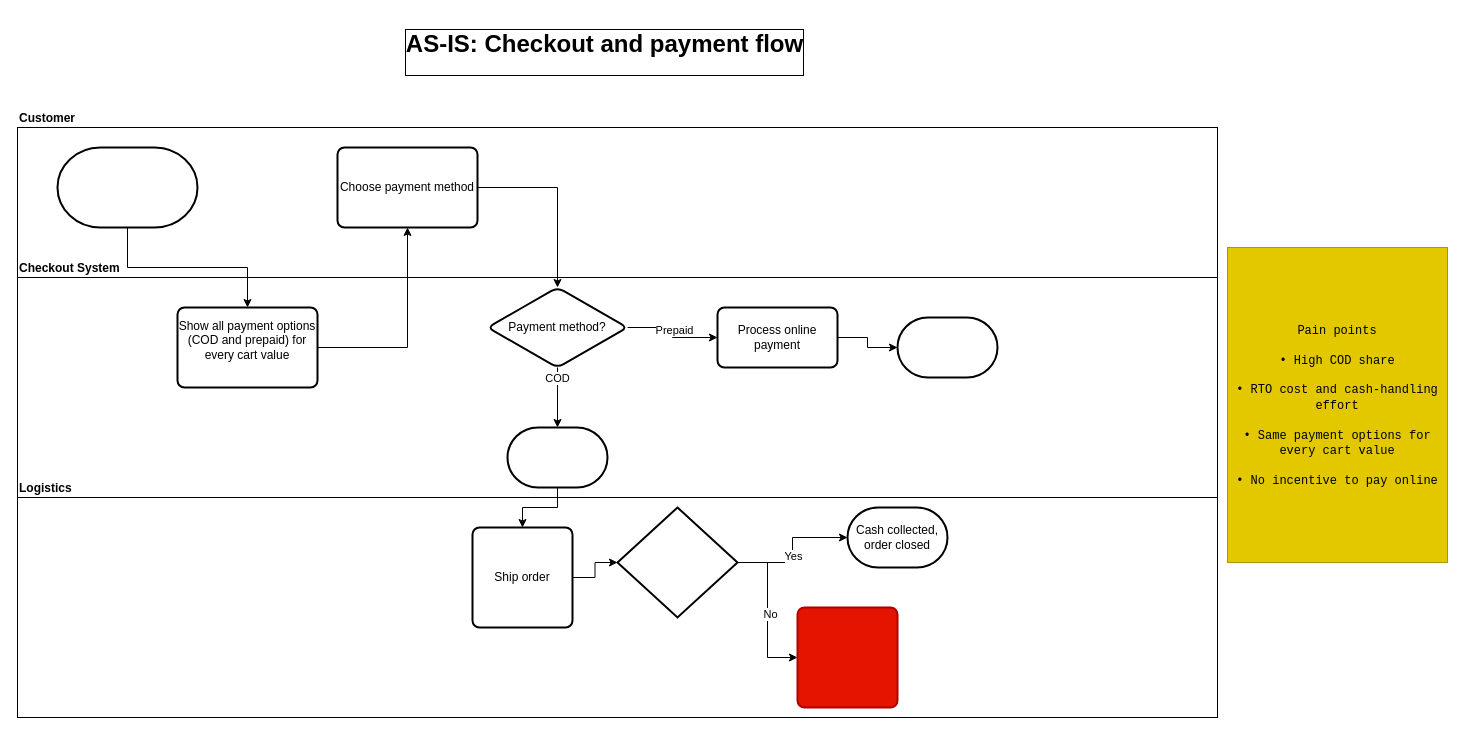
Some shapes in this 1465 by 735 pixel diagram are drawn without their labels. Here are the shapes that lost their labels. From the top down, the centre of each, then its label:
the point at 127,187: Add items to cart
the point at 947,347: Order placed (prepaid)
the point at 557,457: Order placed (COD)
the point at 677,562: Customer accepts delivery?
the point at 847,657: RTO: parcel returned, extra cost
